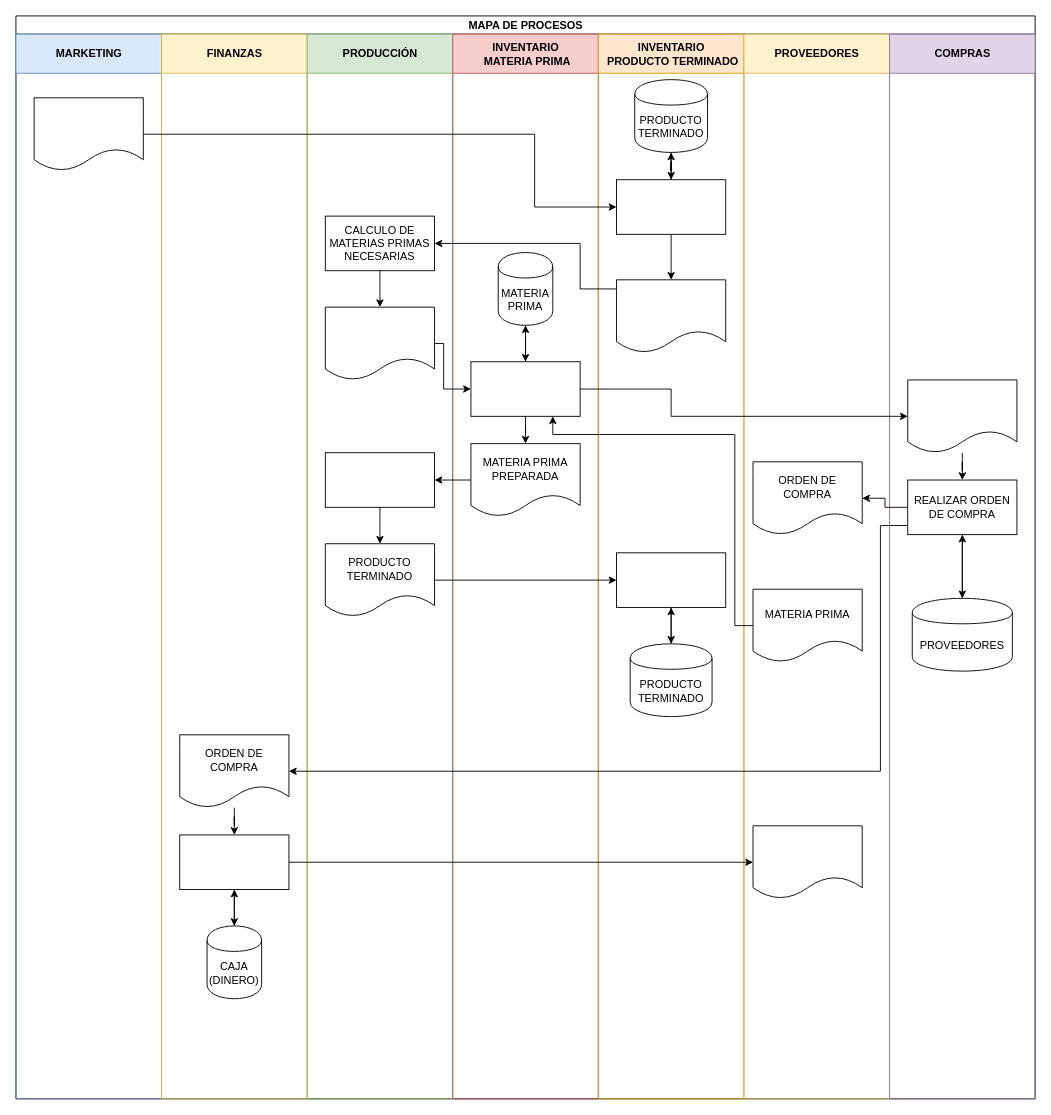
This 1051x1115 diagram has some shape labels left out. The centre of each missing label's shape, as x and y in pixels:
ALMACENAR PRODUCTO TERMINADO: the point at 671,579
CONVERSION DE MATERIA PRIMA: the point at 379,479
DEMANDA: the point at 88,134
DINERO: the point at 807,862
MATERIA PRIMA NECESARIA: the point at 379,343
ORDEN DE PRODUCCION: the point at 671,316
PEDIDO DE PRODUCTO FALTANTE: the point at 962,416
PROCESAR PAGO: the point at 234,862
REVISIÓN MATERIA PRIMA: the point at 525,388
RVISION DE CANTIDAD DE PRODUCTO TERMINADO: the point at 671,206
